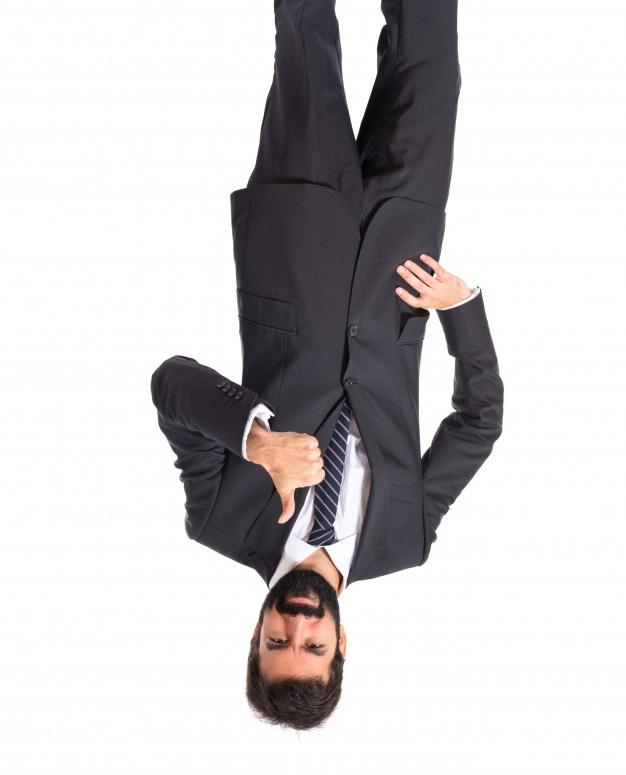thumbsdown: (277, 434, 325, 524)
